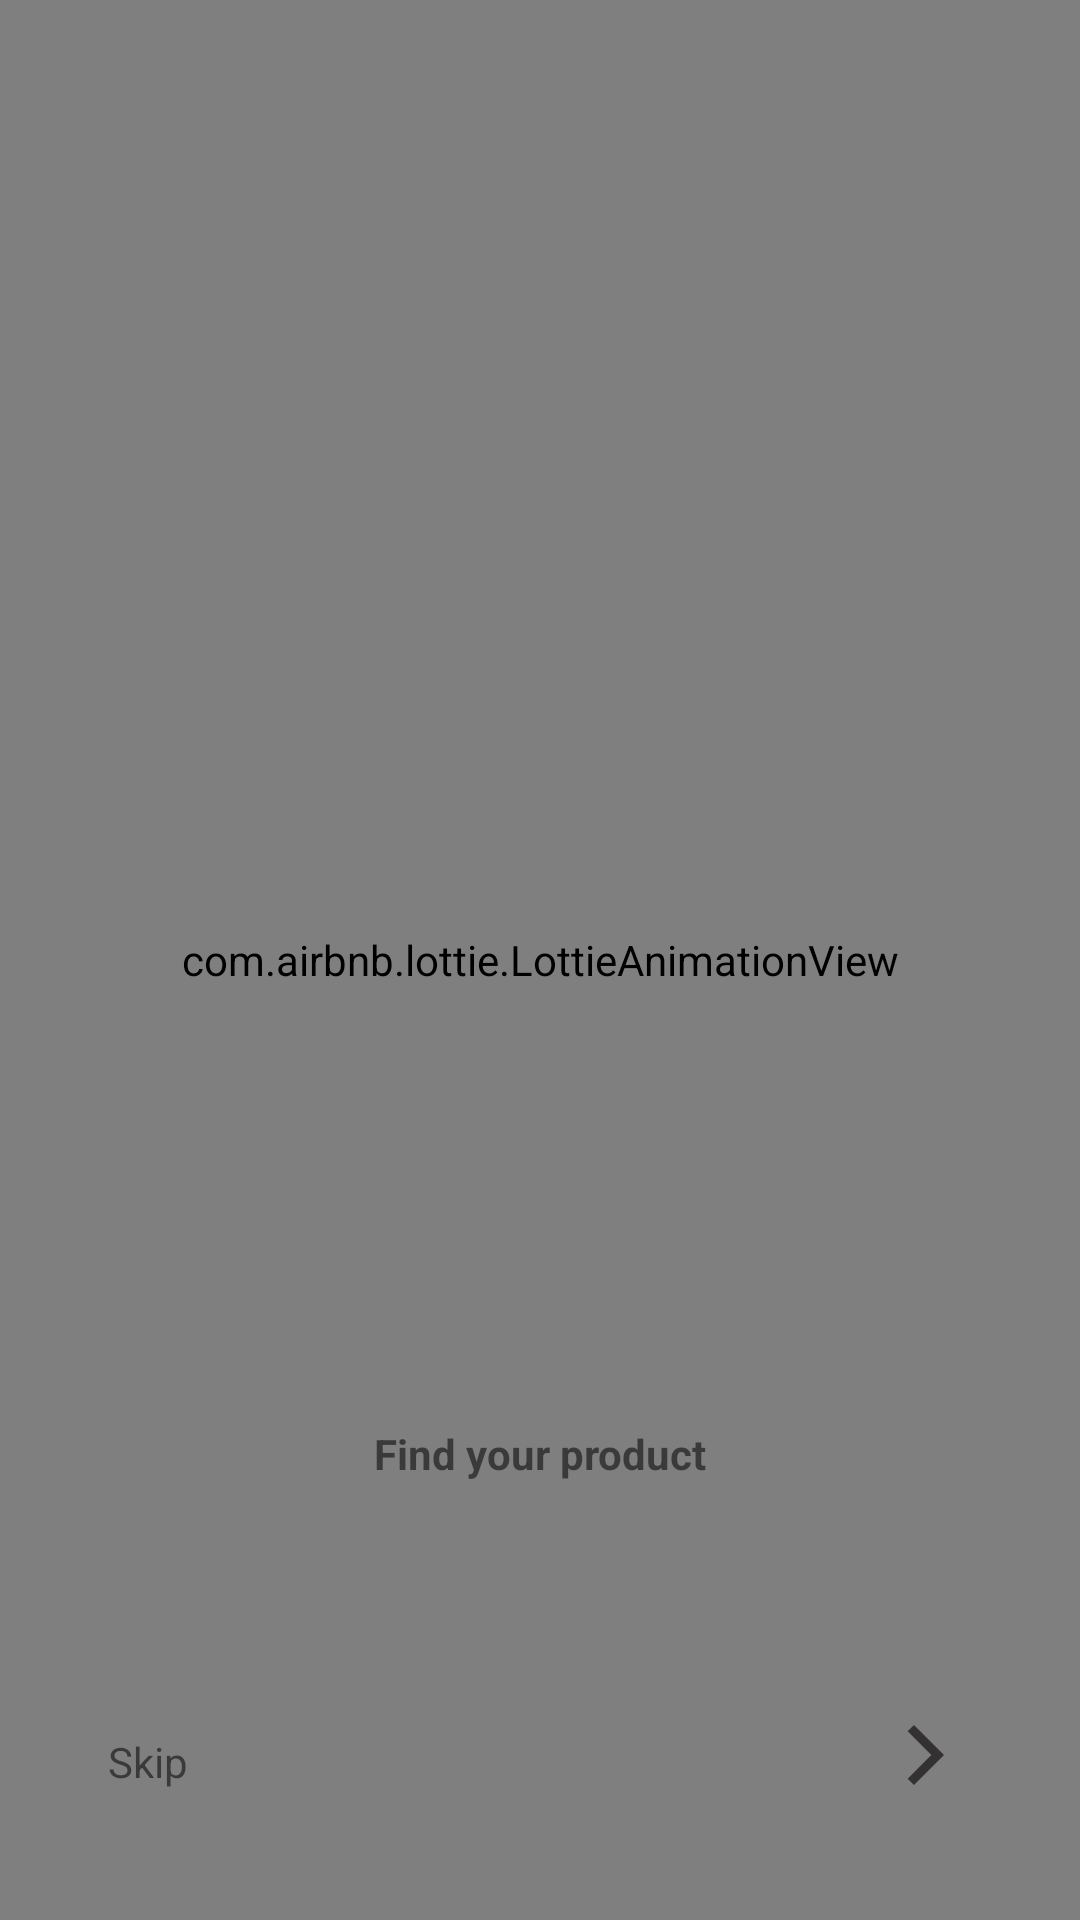

Icons on this 1080×1920 Android screen, each with its box as (x1, y1, x2, y2):
next: (908, 1725, 944, 1785)
